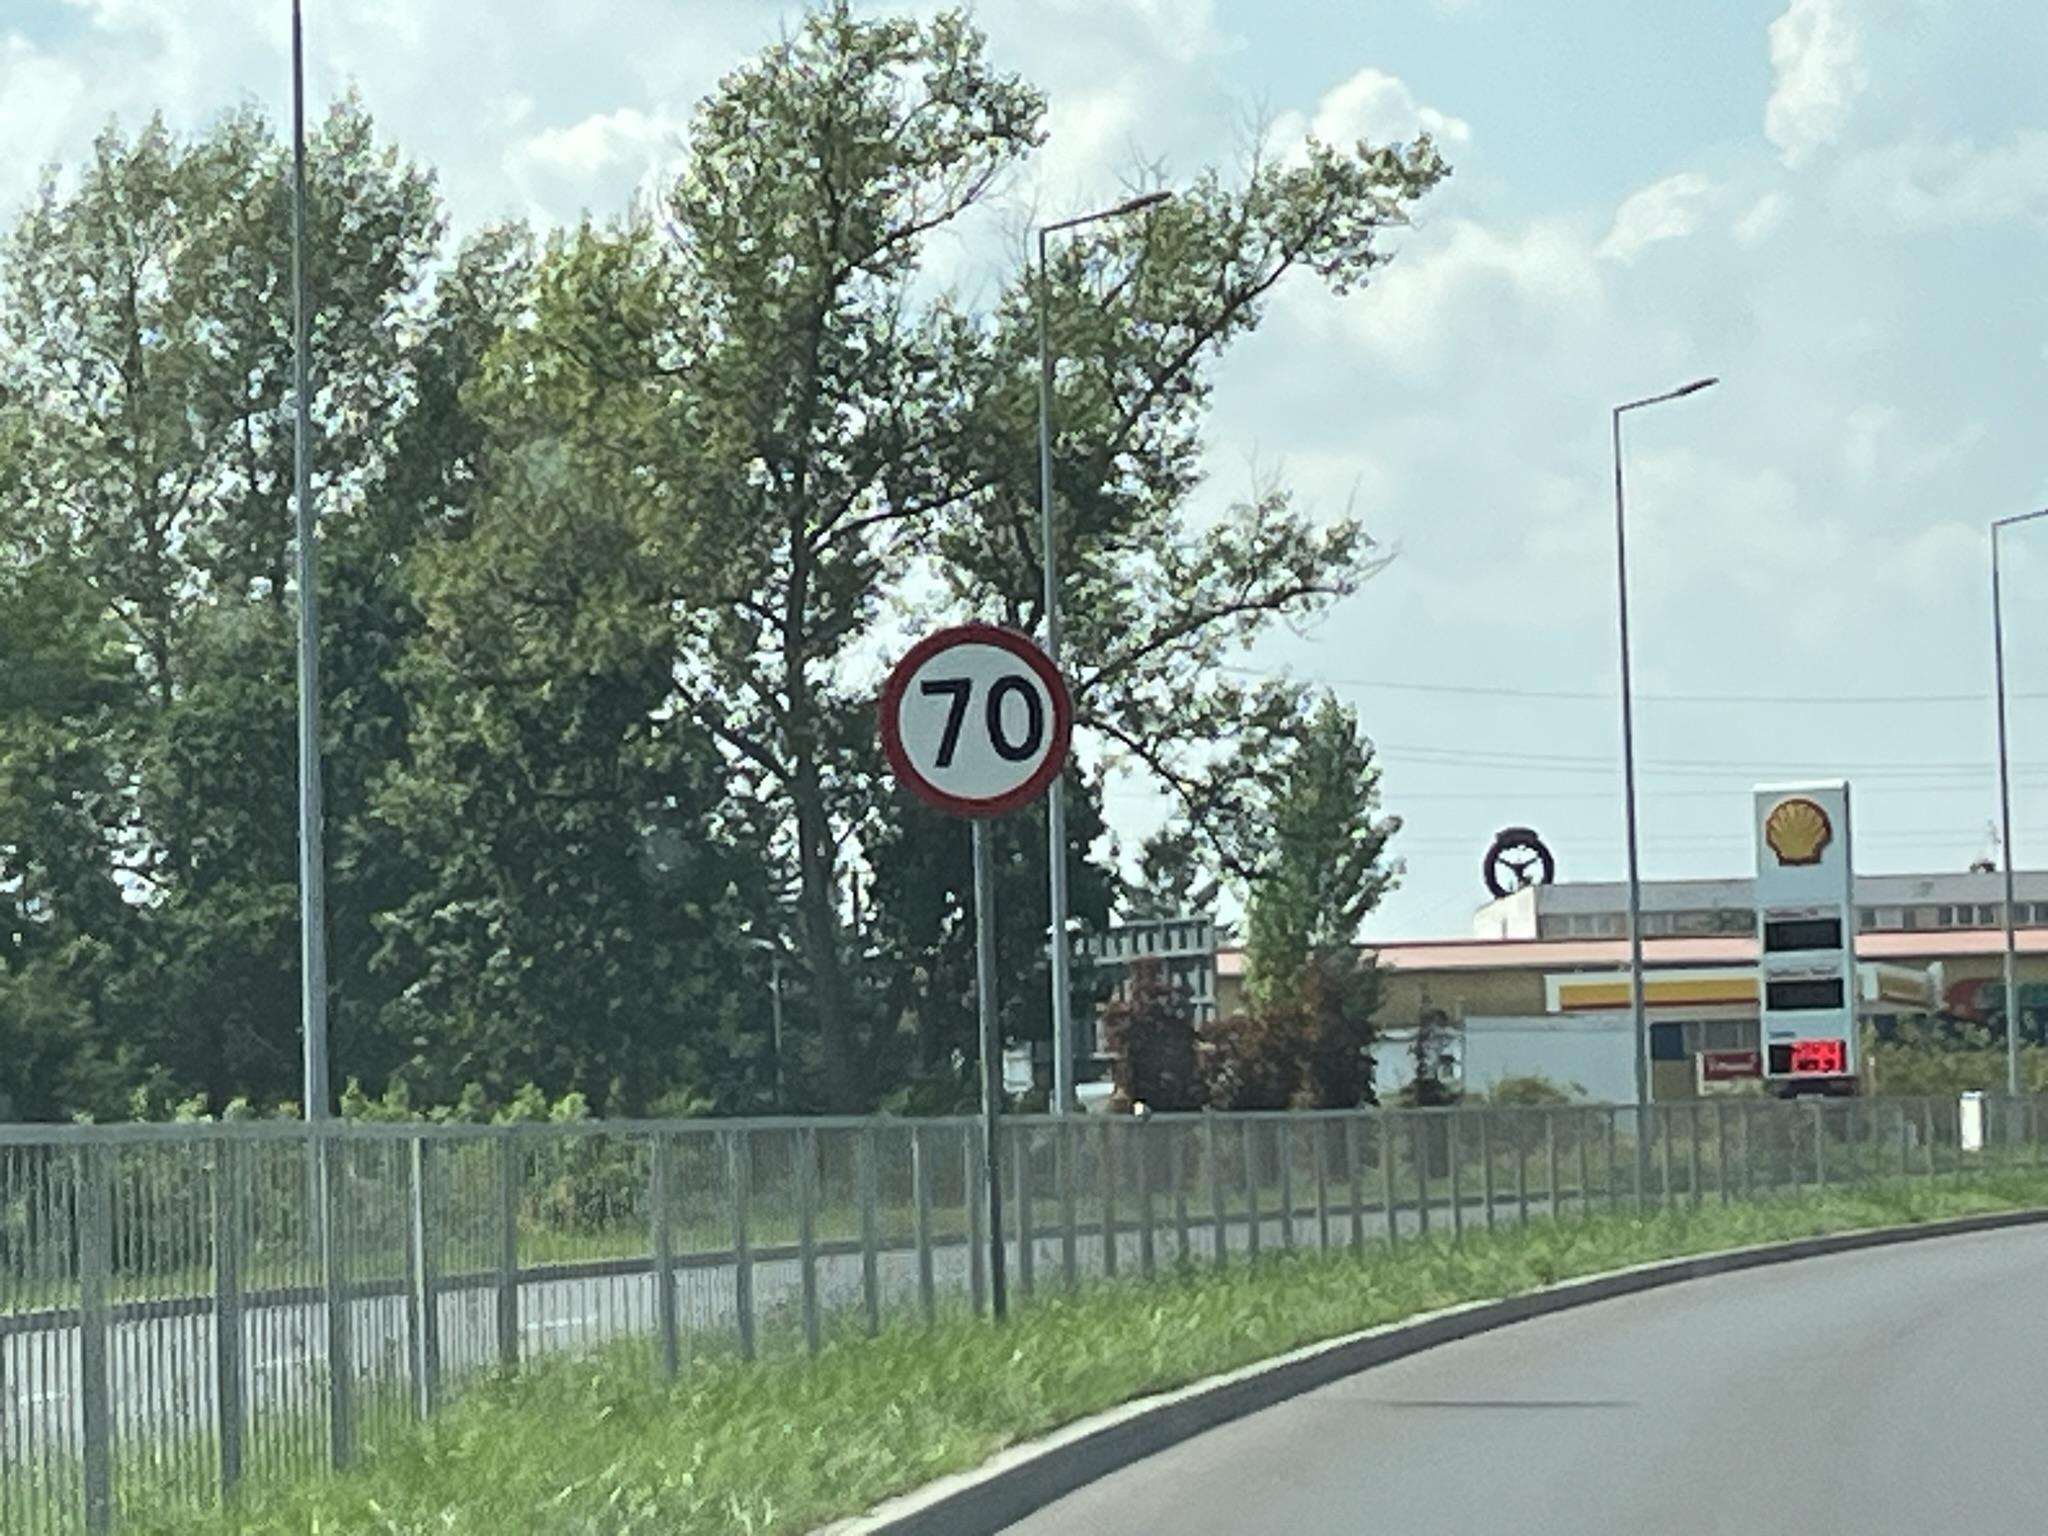prohibitory: (879, 623, 1076, 816)
